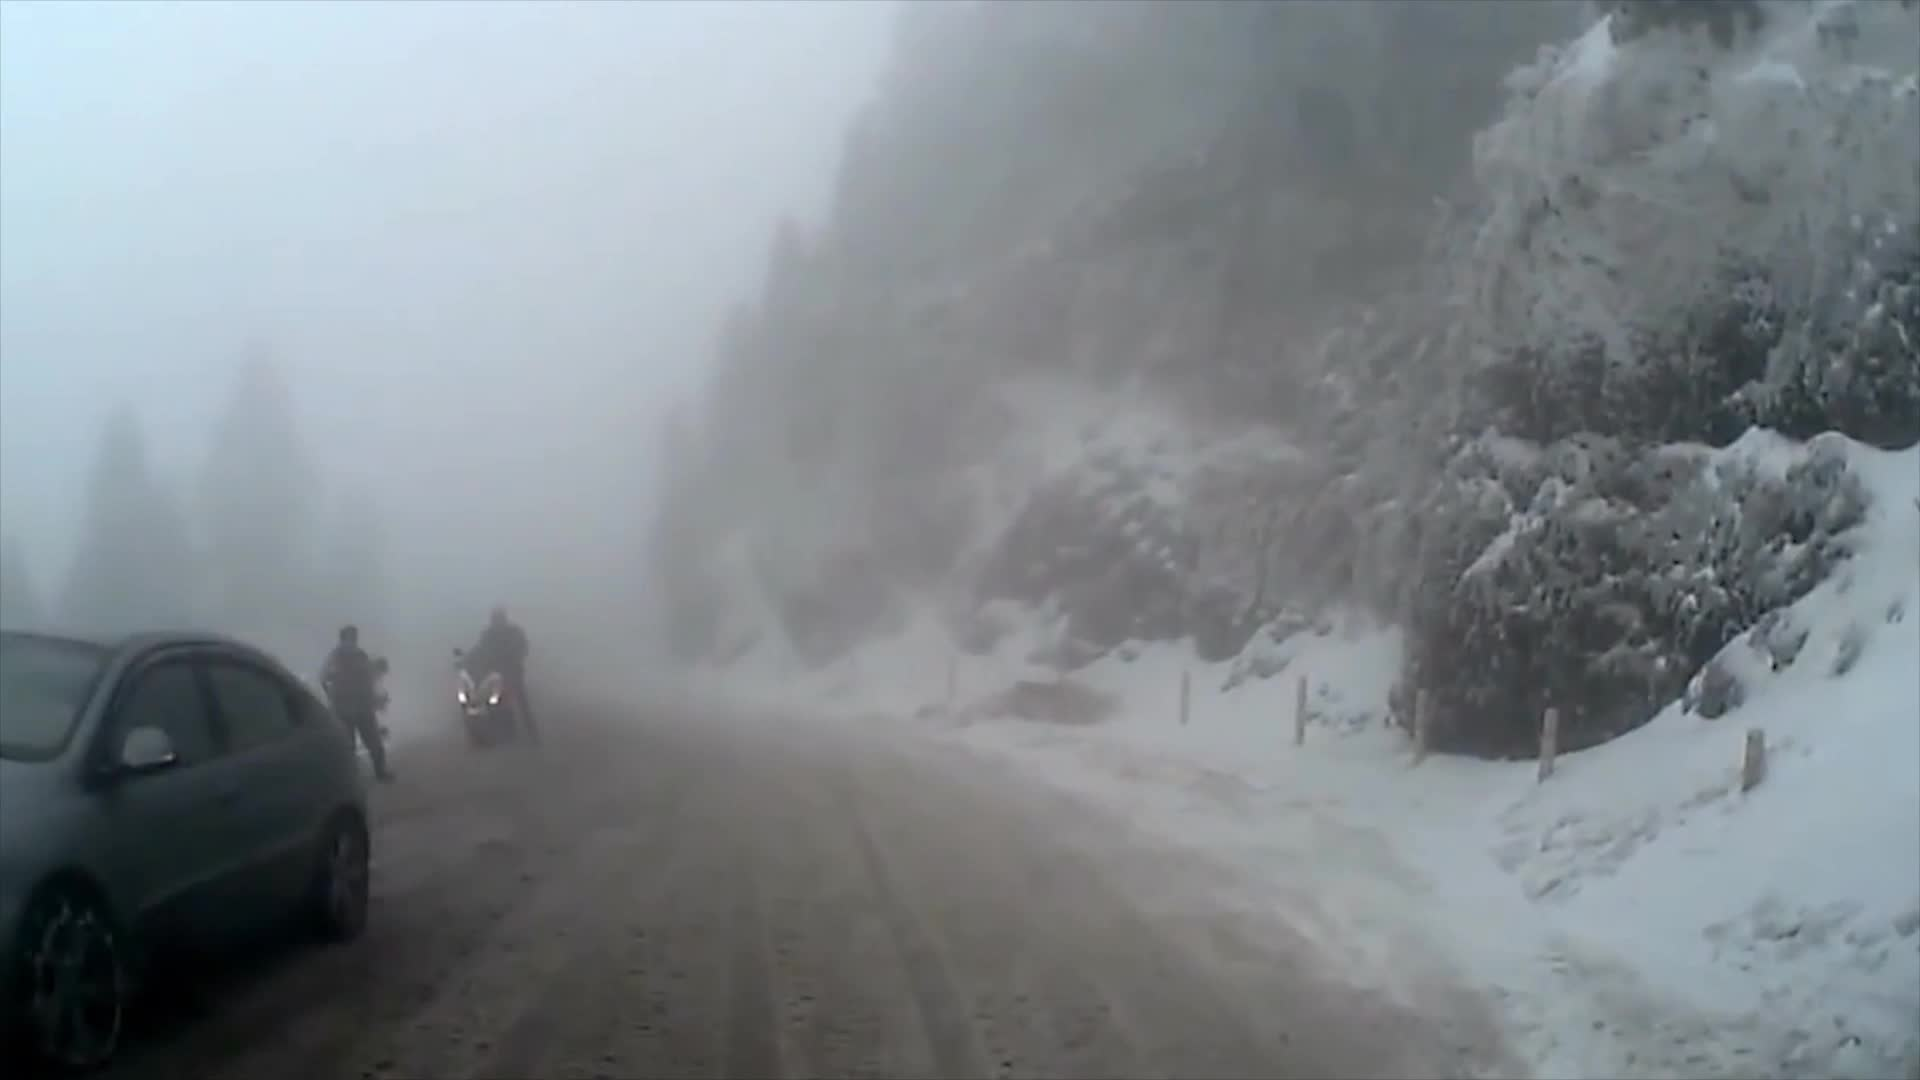pedestrian: (322, 629, 387, 797), (464, 603, 538, 741)
vehicle: (0, 623, 373, 1072)
